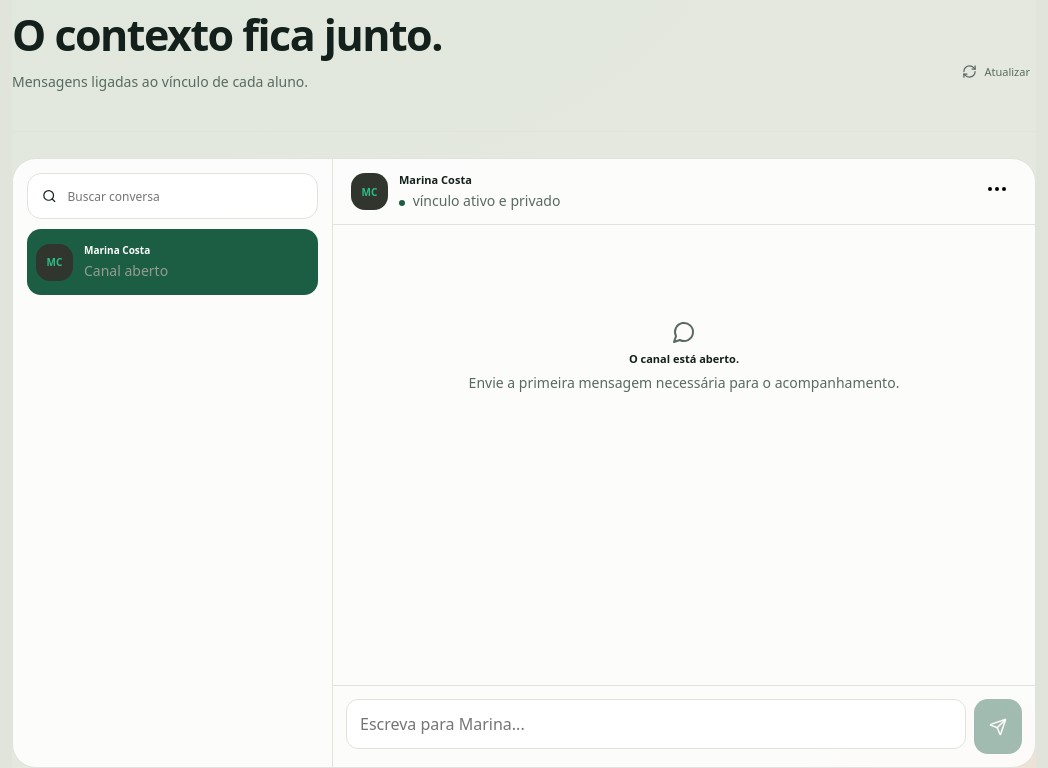
Scenario: live conversation recovery › reuses the same idempotency key when an unchanged send is retried
The width and height of the screenshot is (1048, 768).
(page scrolled)
Type "Mensagem importante" into the text box named "Mensagem" at {"x": 656, "y": 724}, box [346,699,966,749]
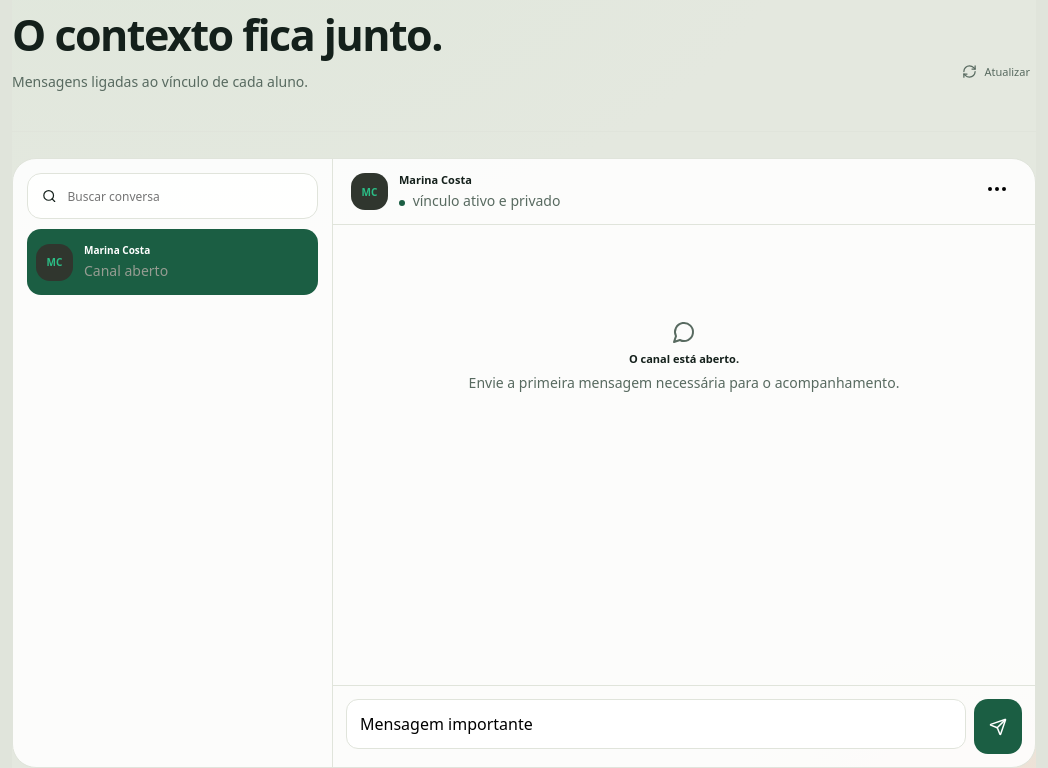
Click the button named "Enviar mensagem" at {"x": 998, "y": 726}, box [974,699,1022,754]
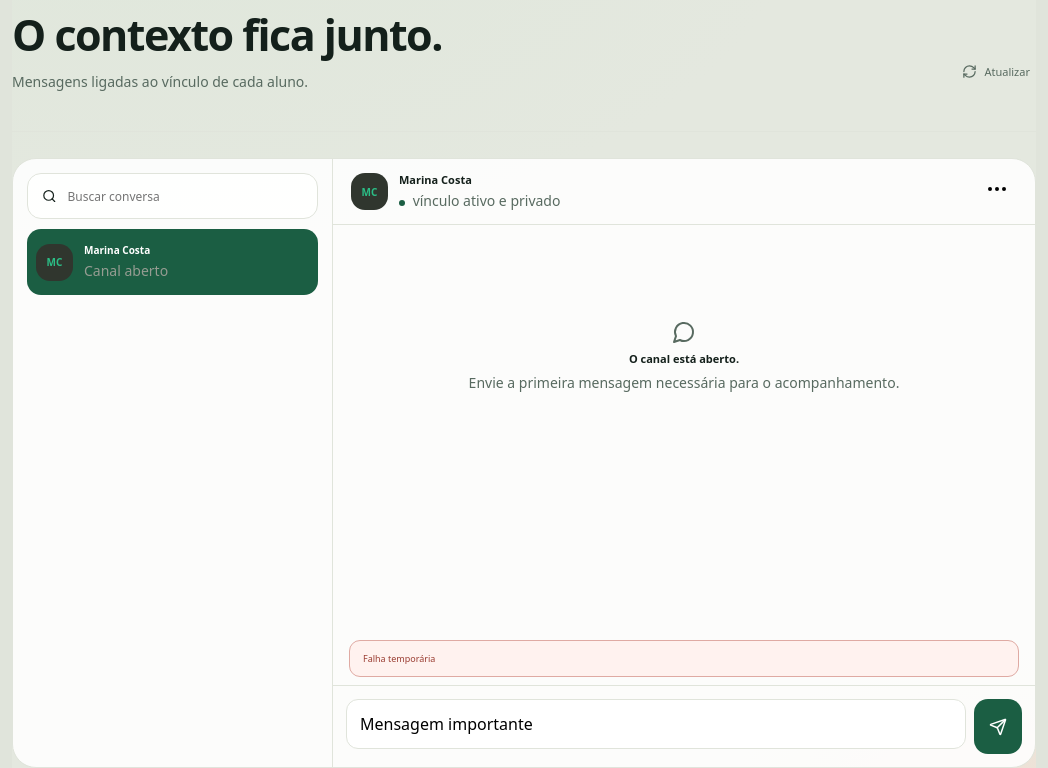
Check: the button named "Enviar mensagem" is enabled
Check: the message "Falha temporária" is shown, box [349,640,1019,677]
Click the button named "Enviar mensagem" at {"x": 998, "y": 726}, box [974,699,1022,754]
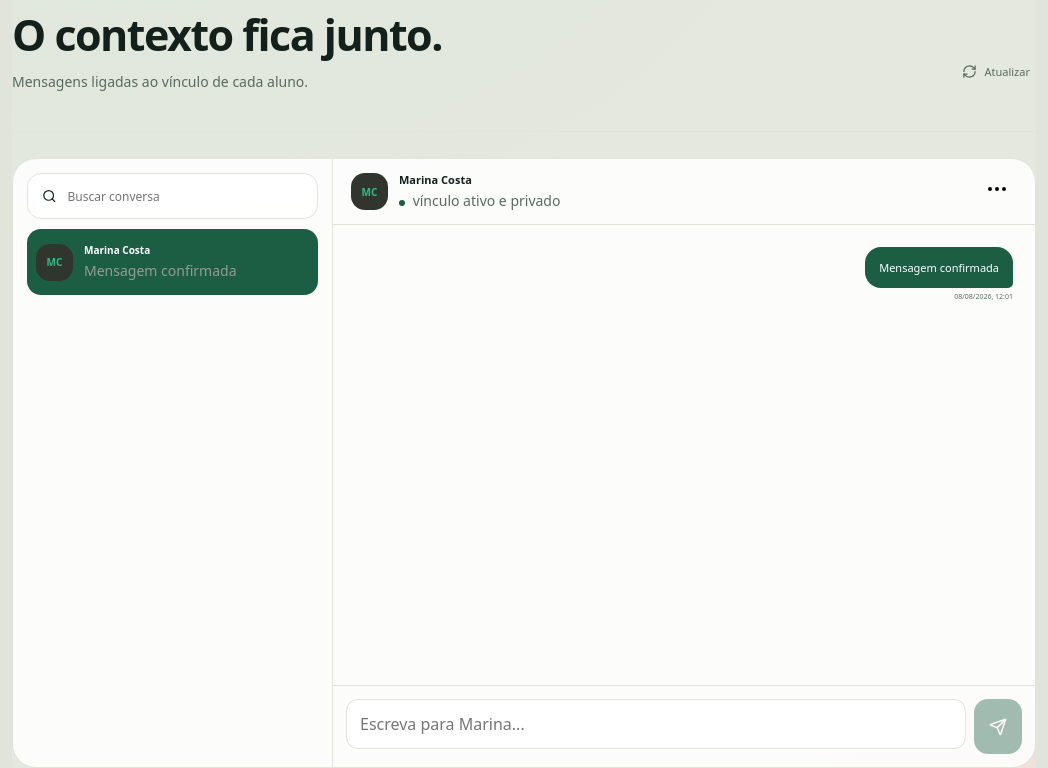
Check: the 2nd text "Mensagem confirmada" is shown, box [865,247,1013,288]
Check: the text box named "Mensagem" is empty, box [346,699,966,749]
